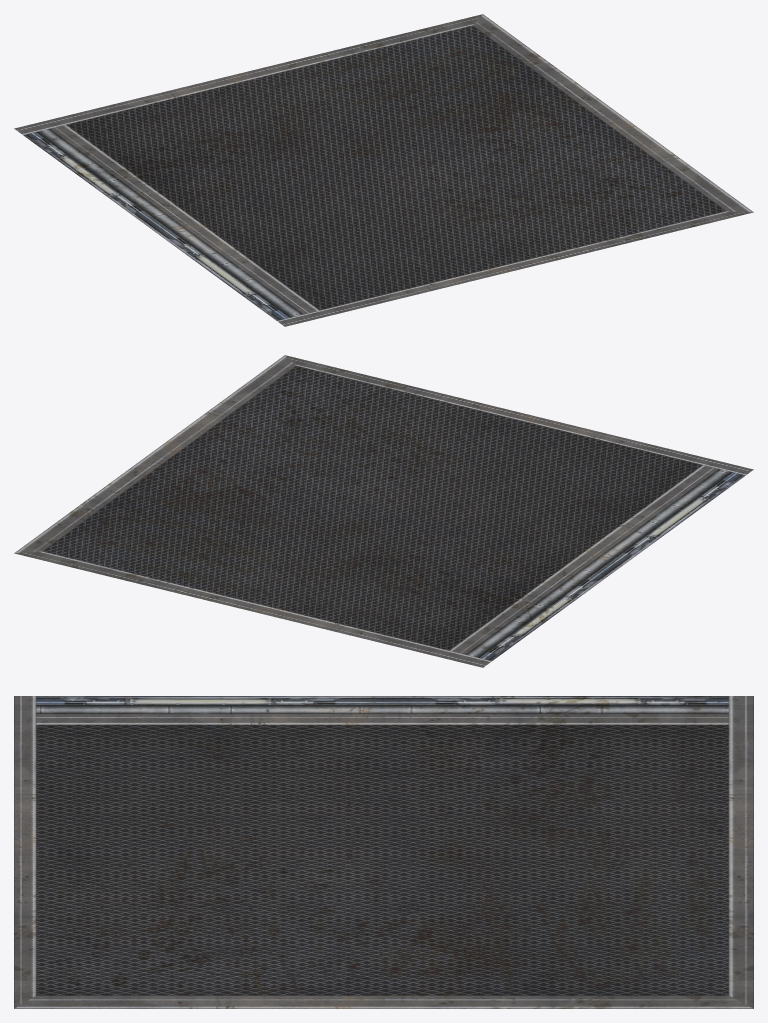
Rendered from Floor_A_5mts_03.fbx.
The picture shows the model from 3 angles, top to bottom: view 1: azimuth 30°, elevation 25°; view 2: azimuth 150°, elevation 25°; view 3: azimuth 270°, elevation 25°; orthographic projection. The views are drawn at different scales.
Parts seen in each view (by area): view 1: Floor_A_5mts_03; view 2: Floor_A_5mts_03; view 3: Floor_A_5mts_03.
Boxes of the visible parts, <box> form: Floor_A_5mts_03: <box>14,14,753,326</box>; Floor_A_5mts_03: <box>14,355,753,667</box>; Floor_A_5mts_03: <box>14,696,753,1008</box>.
Size of the model in its own units: 250 by 2.52e-05 by 250.
Materials: 1 (1 with a texture image).
